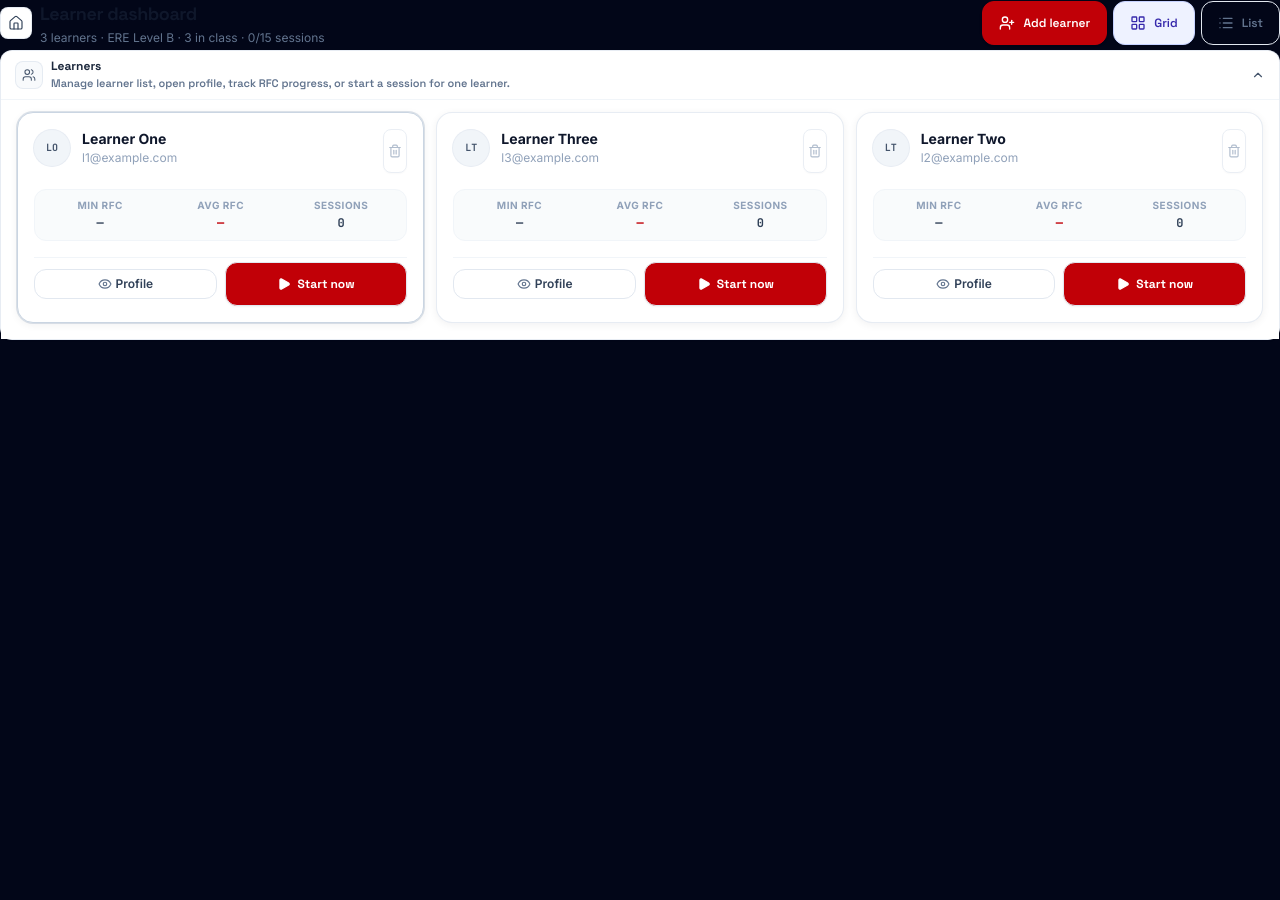
Test: TeacherOverviewPage - Add Learner › disables save when no class is selected for teacher-only session
Click the button "Add learner" at (1045,23), box [982,1,1107,45]
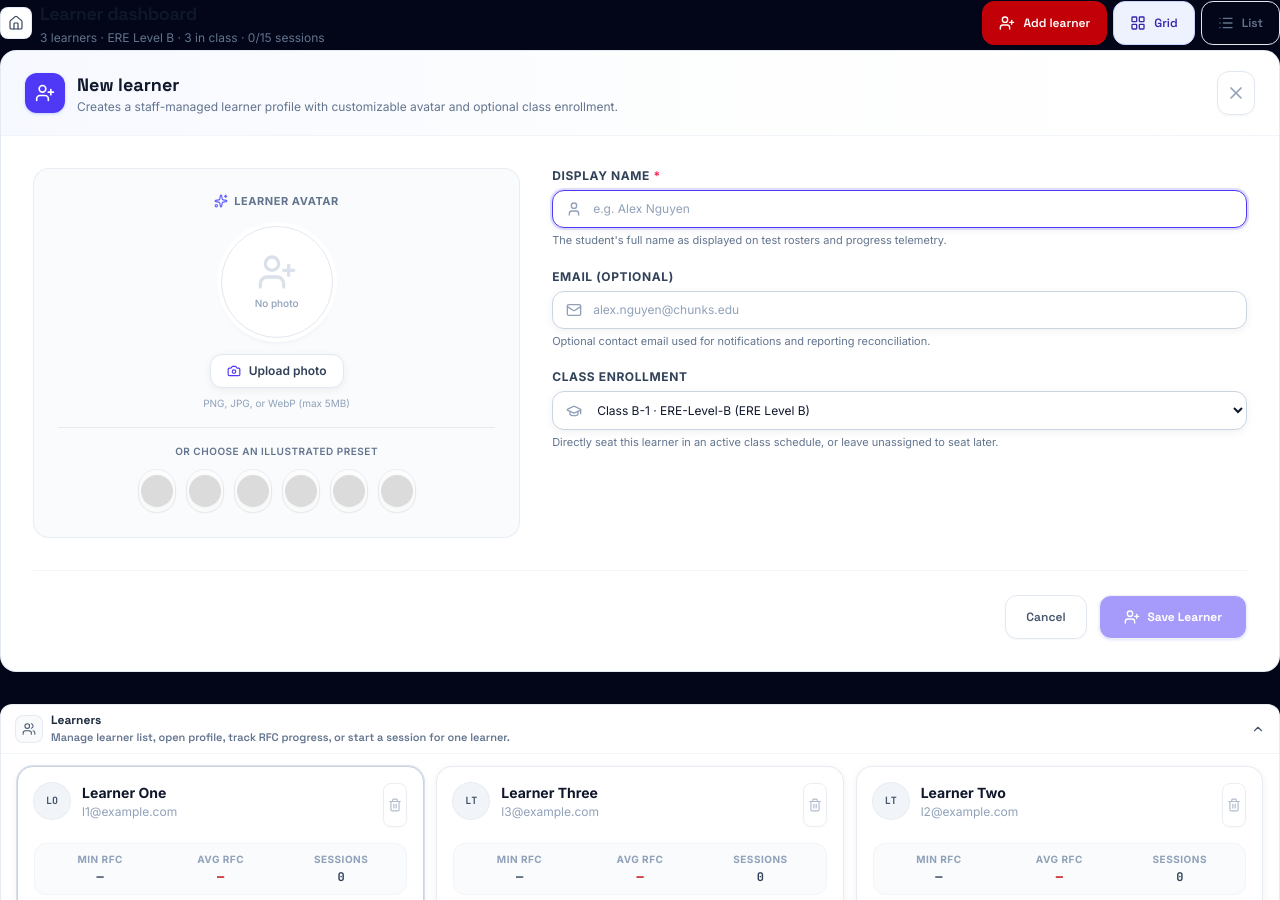
Type "Taylor Swift" into the field labelled "Display Name *" at (900,209), box [552,190,1247,228]
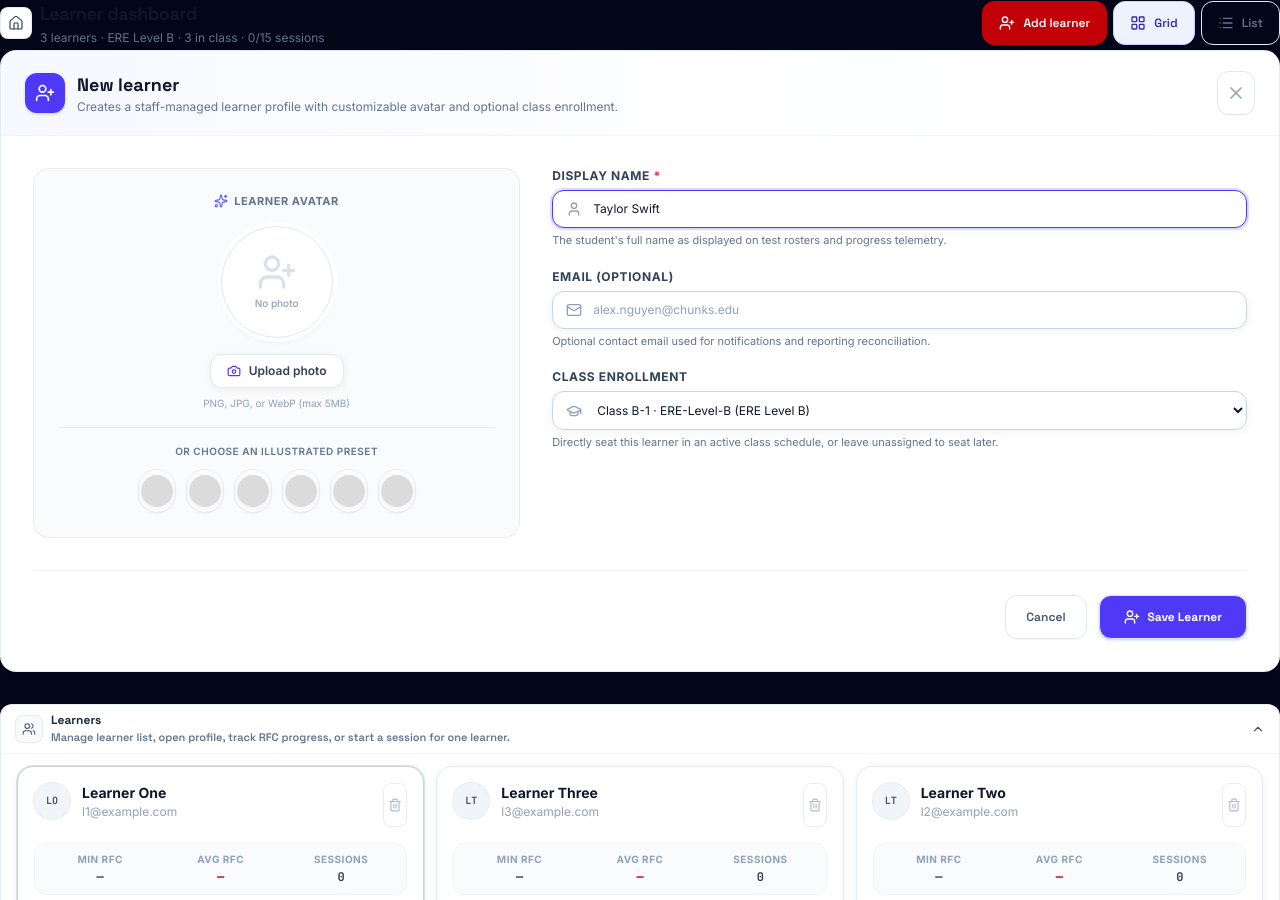
Select "Select a class..." in the dropdown labelled "Class enrollment" at (900,410), box [552,391,1247,430]
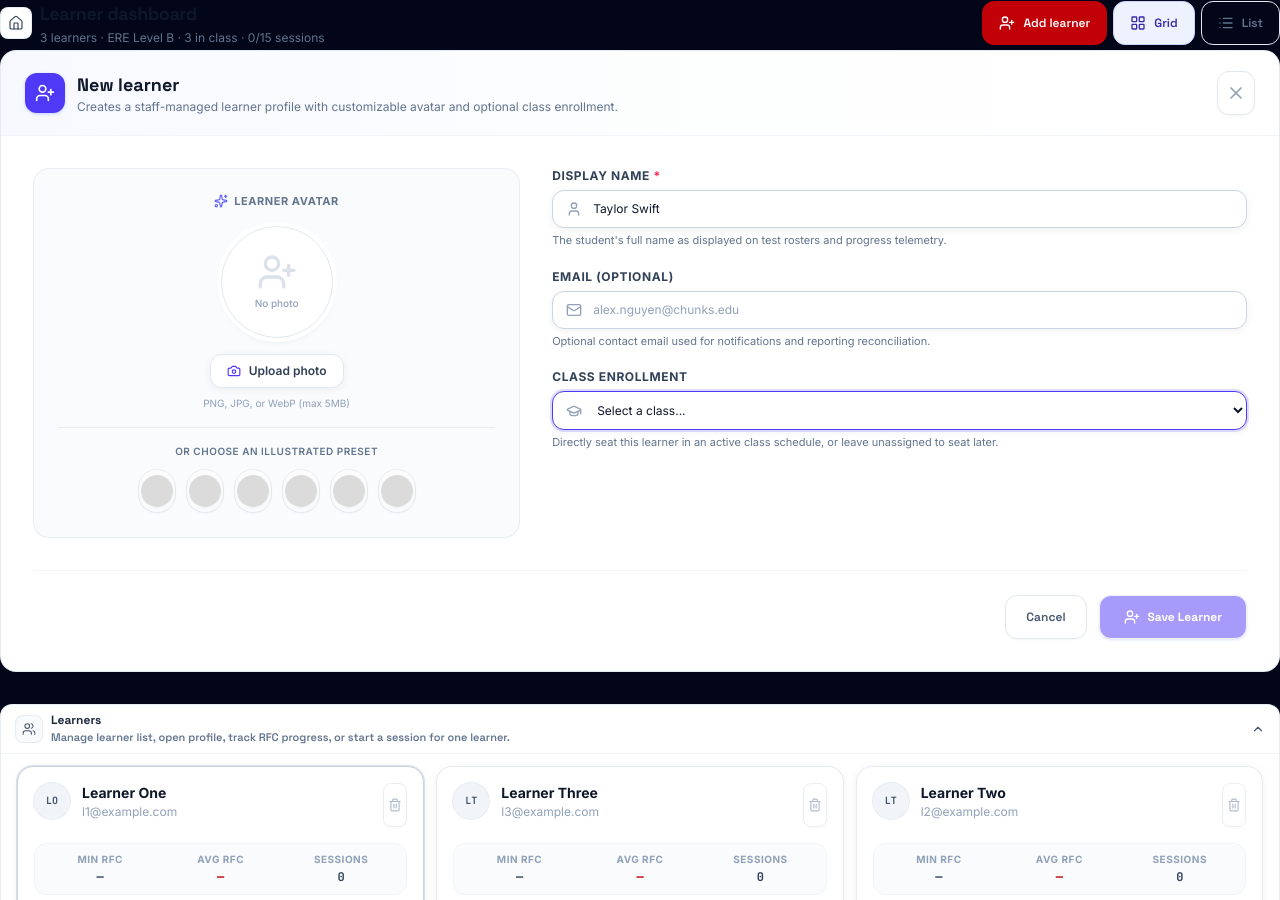
Result: the button "Save Learner" is disabled at [1099,594,1247,638]
